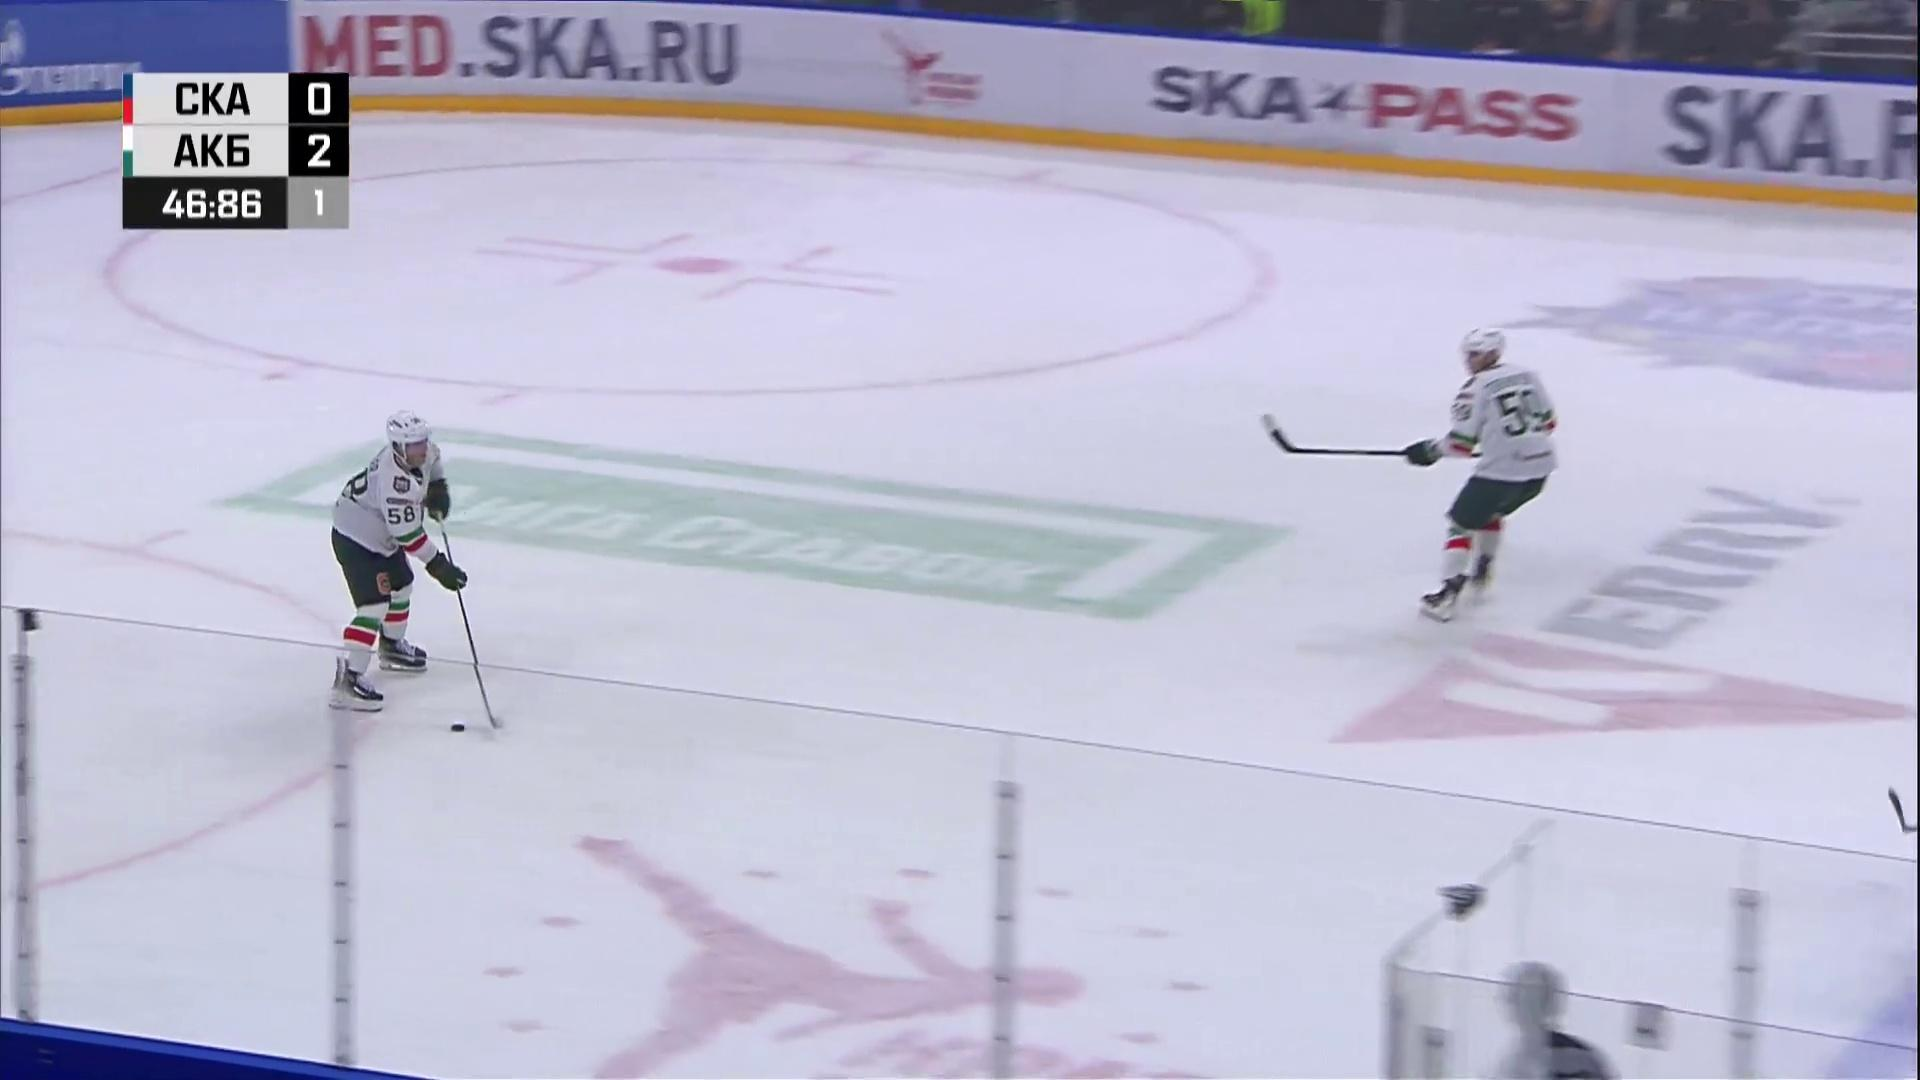ball: (451, 724, 464, 732)
